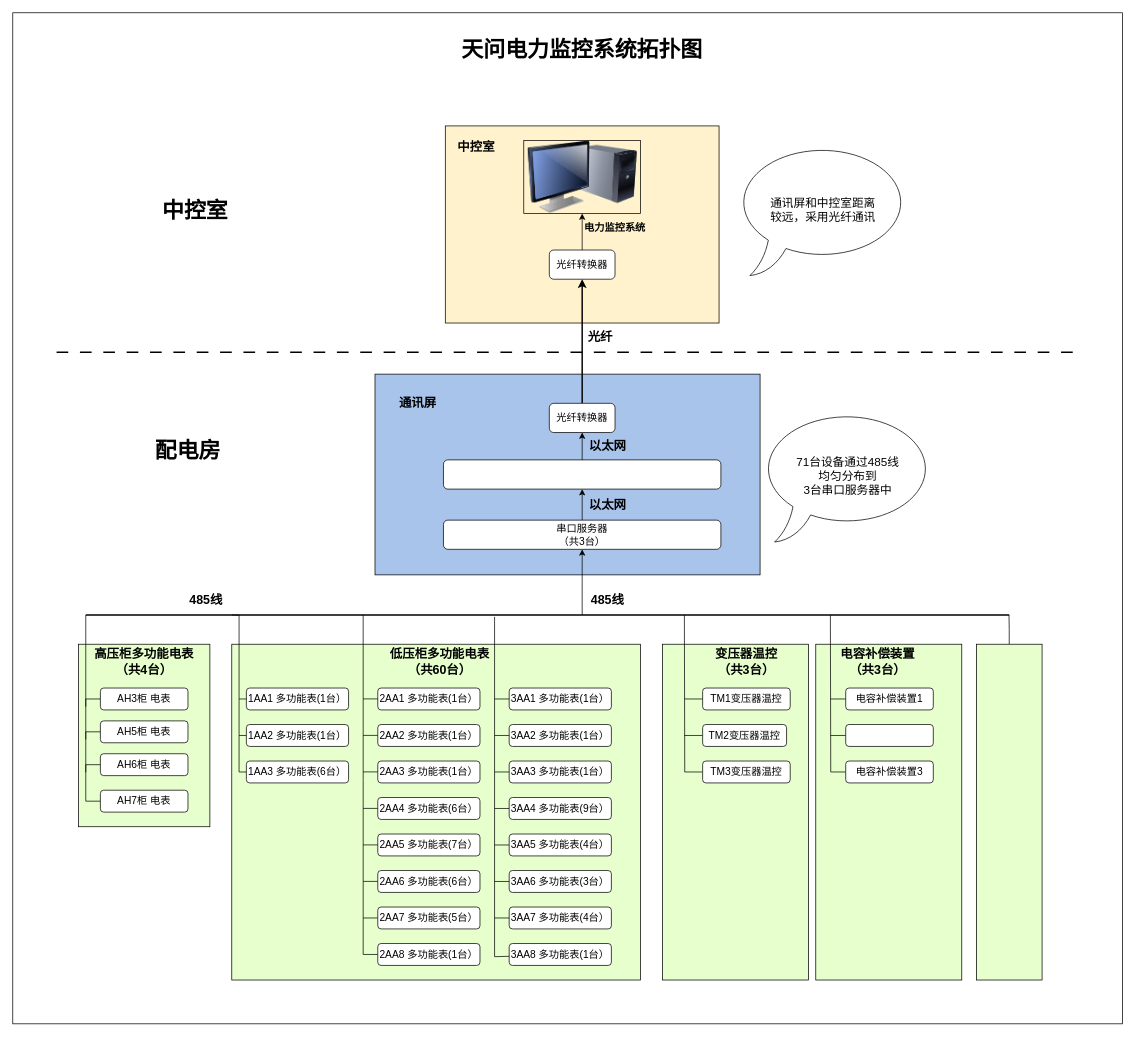
The diagram is 1135 pixels wide and 1037 high, and some of its shapes have lost their labels. Each missing label, with the centre of its shape:
交换机: point (582, 474)
电容补偿装置2: point (889, 735)
直流屏装置: point (1009, 811)
